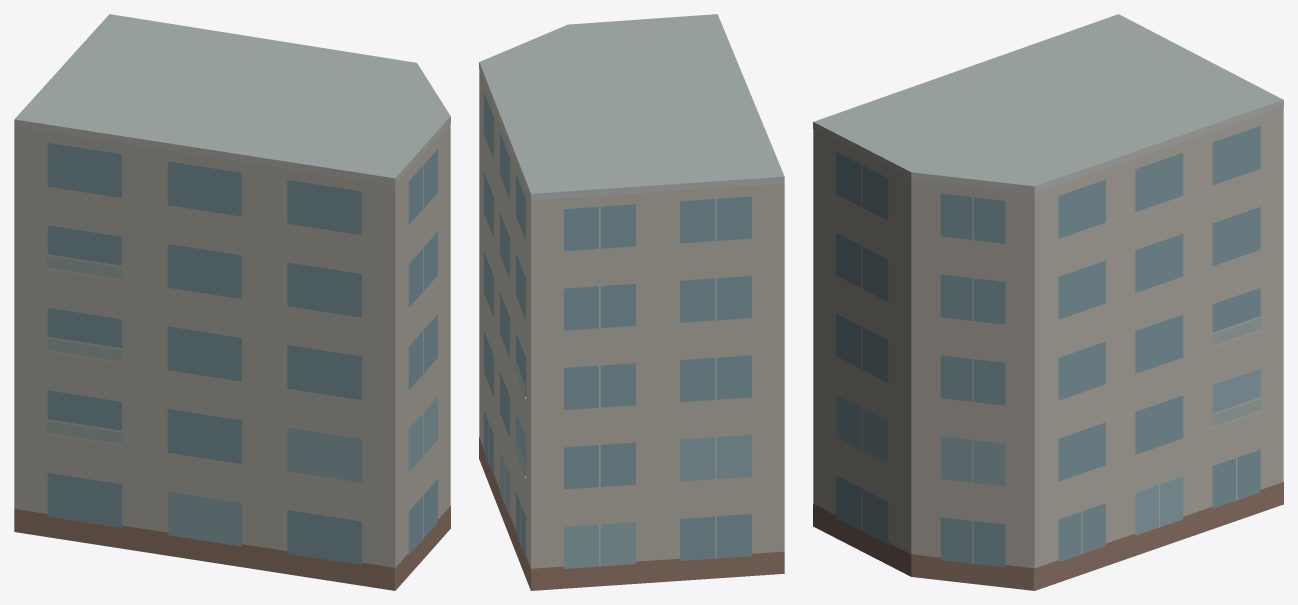
File: survey-upis-32681850.glb
The picture shows the model from 3 angles, left to right: view 1: azimuth 30°, elevation 25°; view 2: azimuth 150°, elevation 25°; view 3: azimuth 270°, elevation 25°; orthographic projection. The views are drawn at different scales.
Visible parts, largest first — view 1: survey-upis-32681850.tmp; view 2: survey-upis-32681850.tmp; view 3: survey-upis-32681850.tmp.
Boxes of the visible parts, bbox=[...] form: survey-upis-32681850.tmp: bbox=[14, 14, 450, 590]; survey-upis-32681850.tmp: bbox=[479, 14, 784, 590]; survey-upis-32681850.tmp: bbox=[813, 14, 1283, 590].
Bounding box in the file's own units: 12.89 × 14.1 × 14.87.
